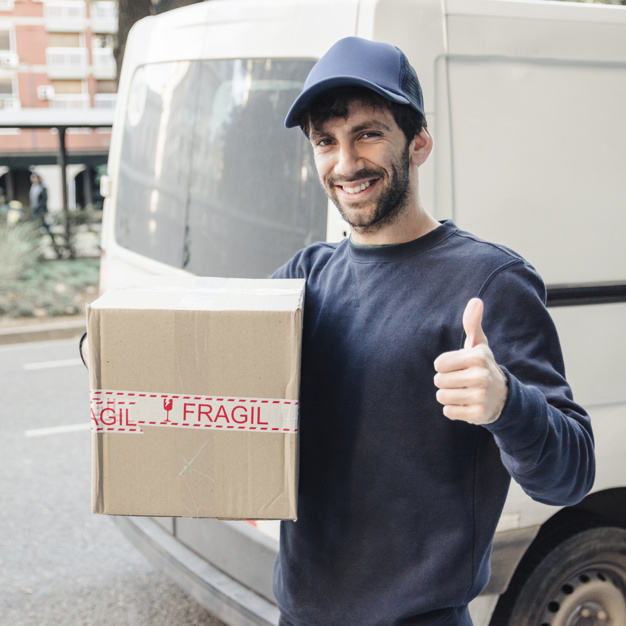thumbsup: (432, 298, 492, 423)
